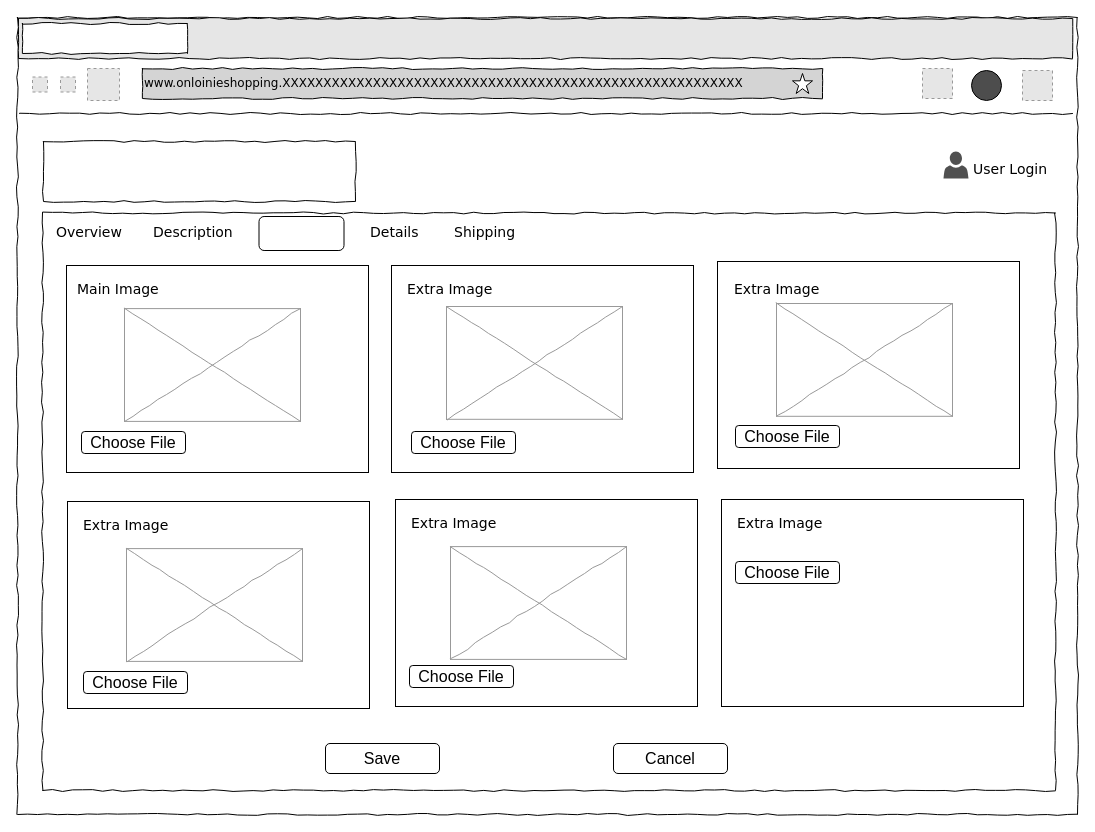
Some shapes in this 1095 by 832 pixel diagram are drawn without their labels. Grey dashed boxes stand in for pictures. The shapes that lost their labels are listed below. From the top down, each one's centre as x and y in pixels, then its label:
the point at 199,171: Create New Products
the point at 301,233: Images
